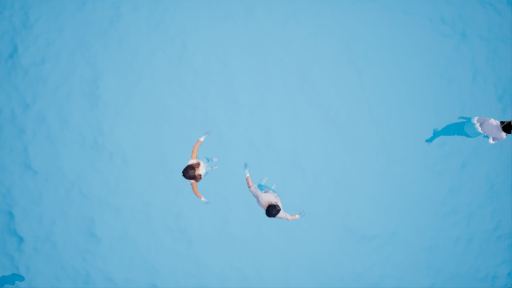person: (242, 159, 304, 225), (425, 110, 512, 146), (181, 130, 220, 205)
